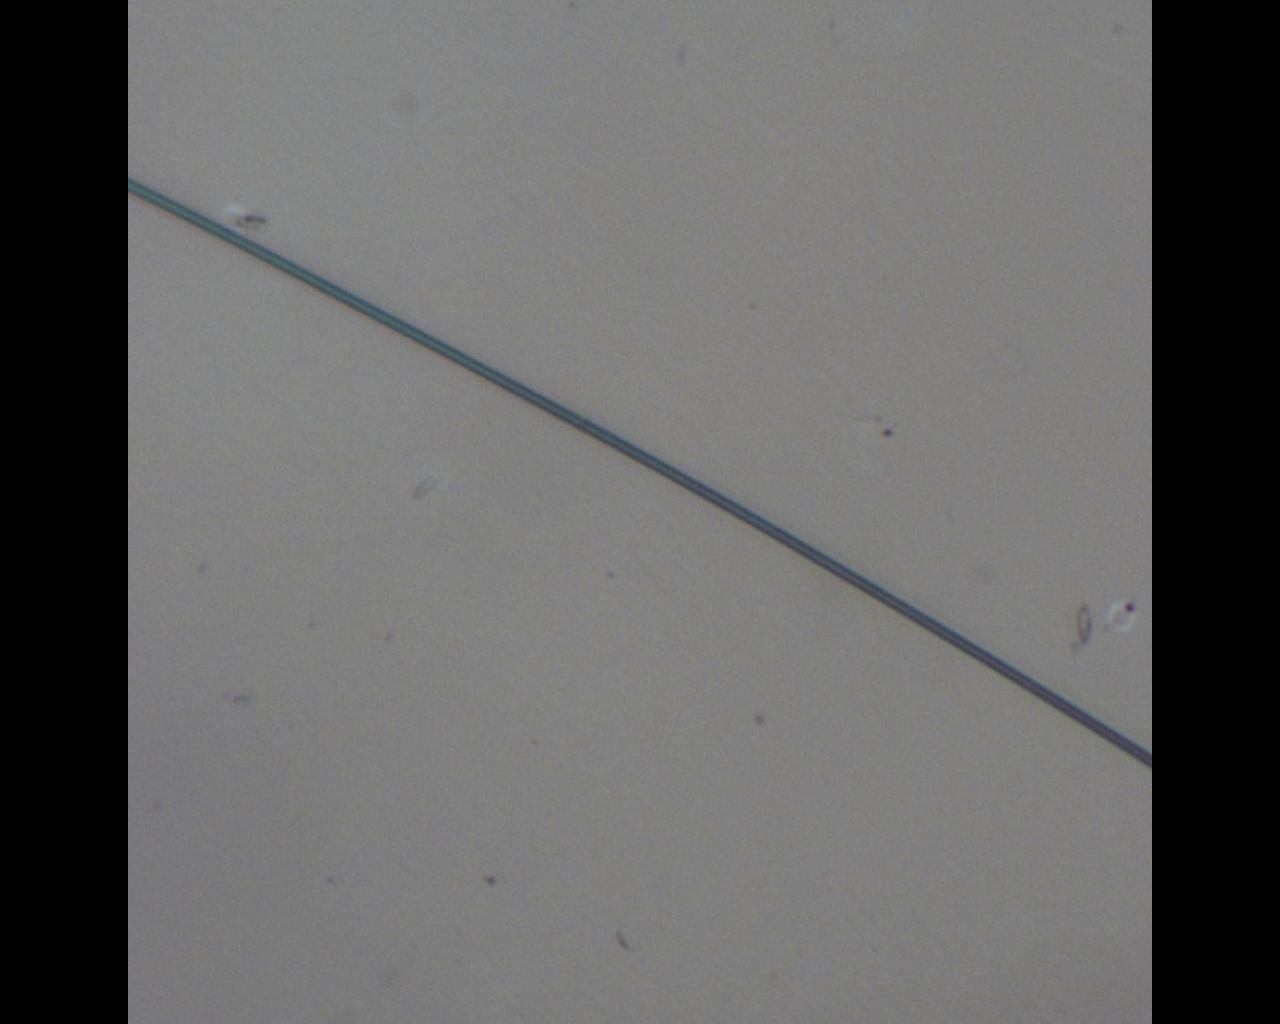fiber: (217, 491, 285, 1024)
